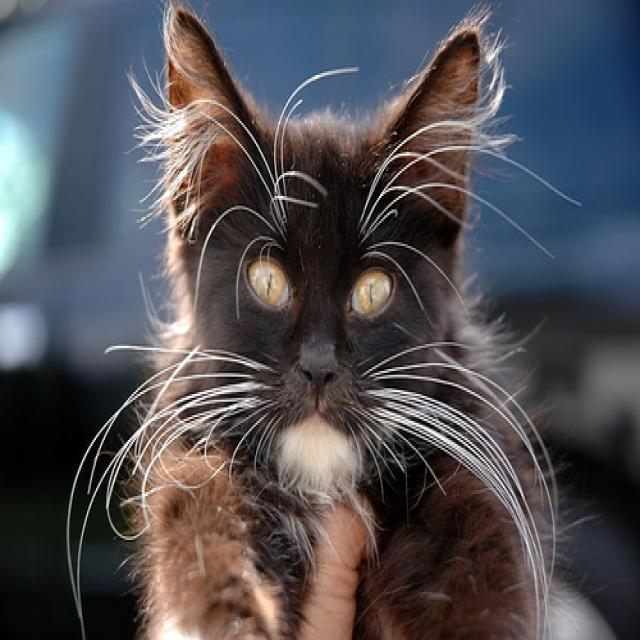cat: (65, 1, 618, 639)
